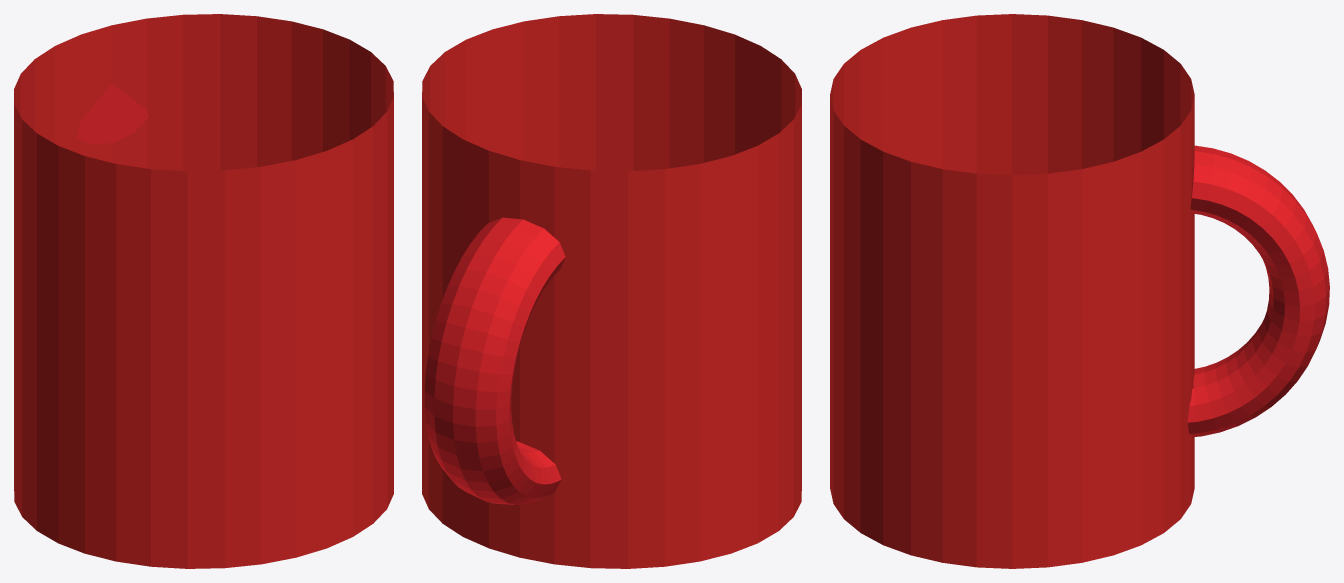
File: RedCup.fbx
3 views of the same model, side by side, from view 1: azimuth 30°, elevation 25°; view 2: azimuth 150°, elevation 25°; view 3: azimuth 270°, elevation 25° (orthographic).
Parts seen in each view (by area): view 1: Cylinder, Torus; view 2: Cylinder, Torus; view 3: Cylinder, Torus.
Boxes of the visible parts, x1,y1,x2,y2 form: Cylinder: [14, 14, 393, 568]; Torus: [76, 84, 148, 144]; Cylinder: [422, 14, 801, 568]; Torus: [424, 217, 565, 504]; Cylinder: [830, 14, 1194, 568]; Torus: [1187, 145, 1329, 437].
Size of the model in its own units: 48.22 by 54.87 by 63.16.
